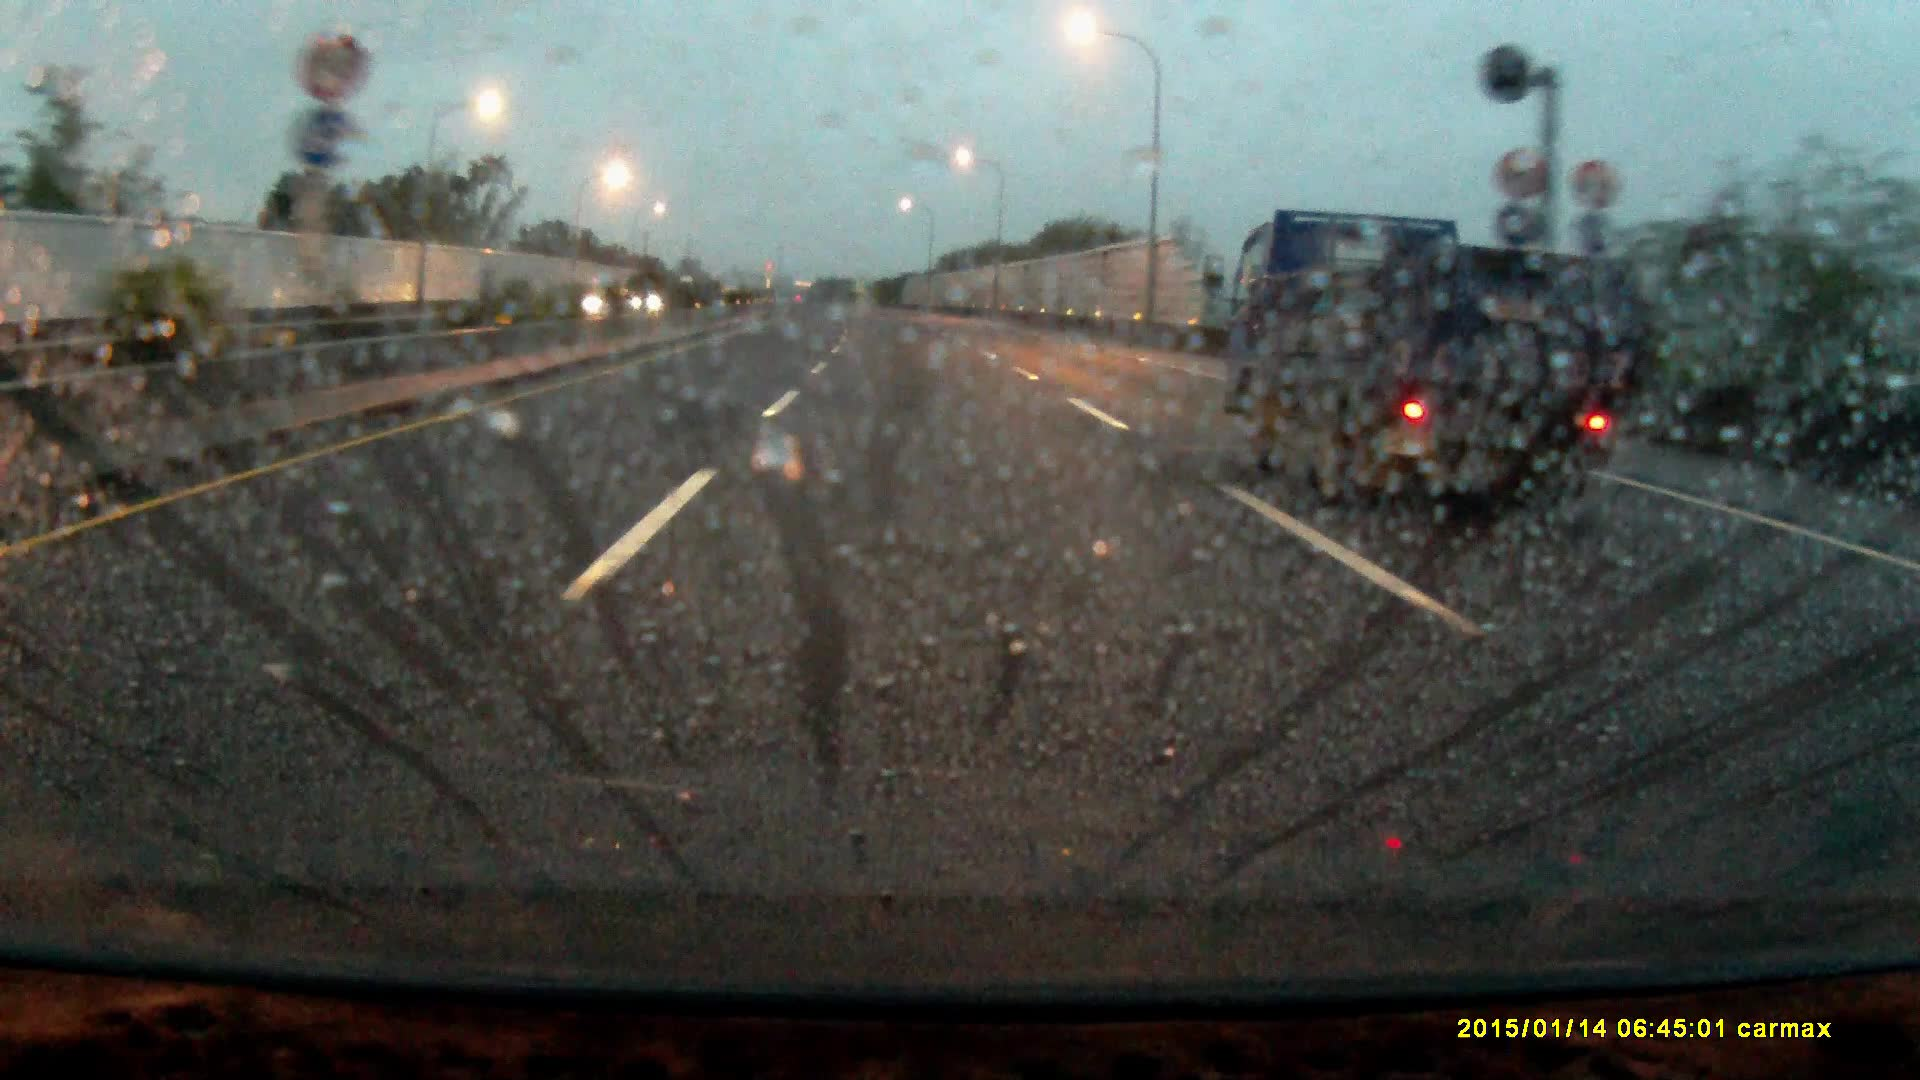vehicle: (1221, 203, 1652, 535)
